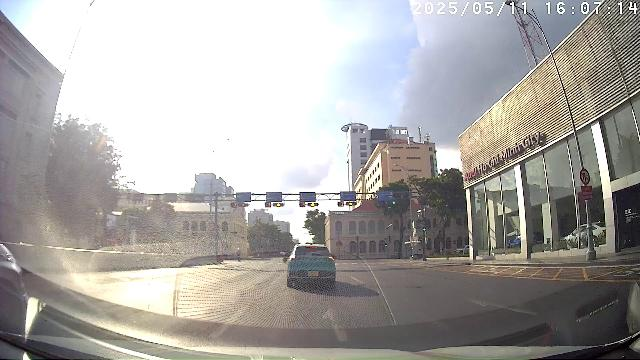124b-cam-oto-quay-dau-xe: (580, 168, 591, 185)
